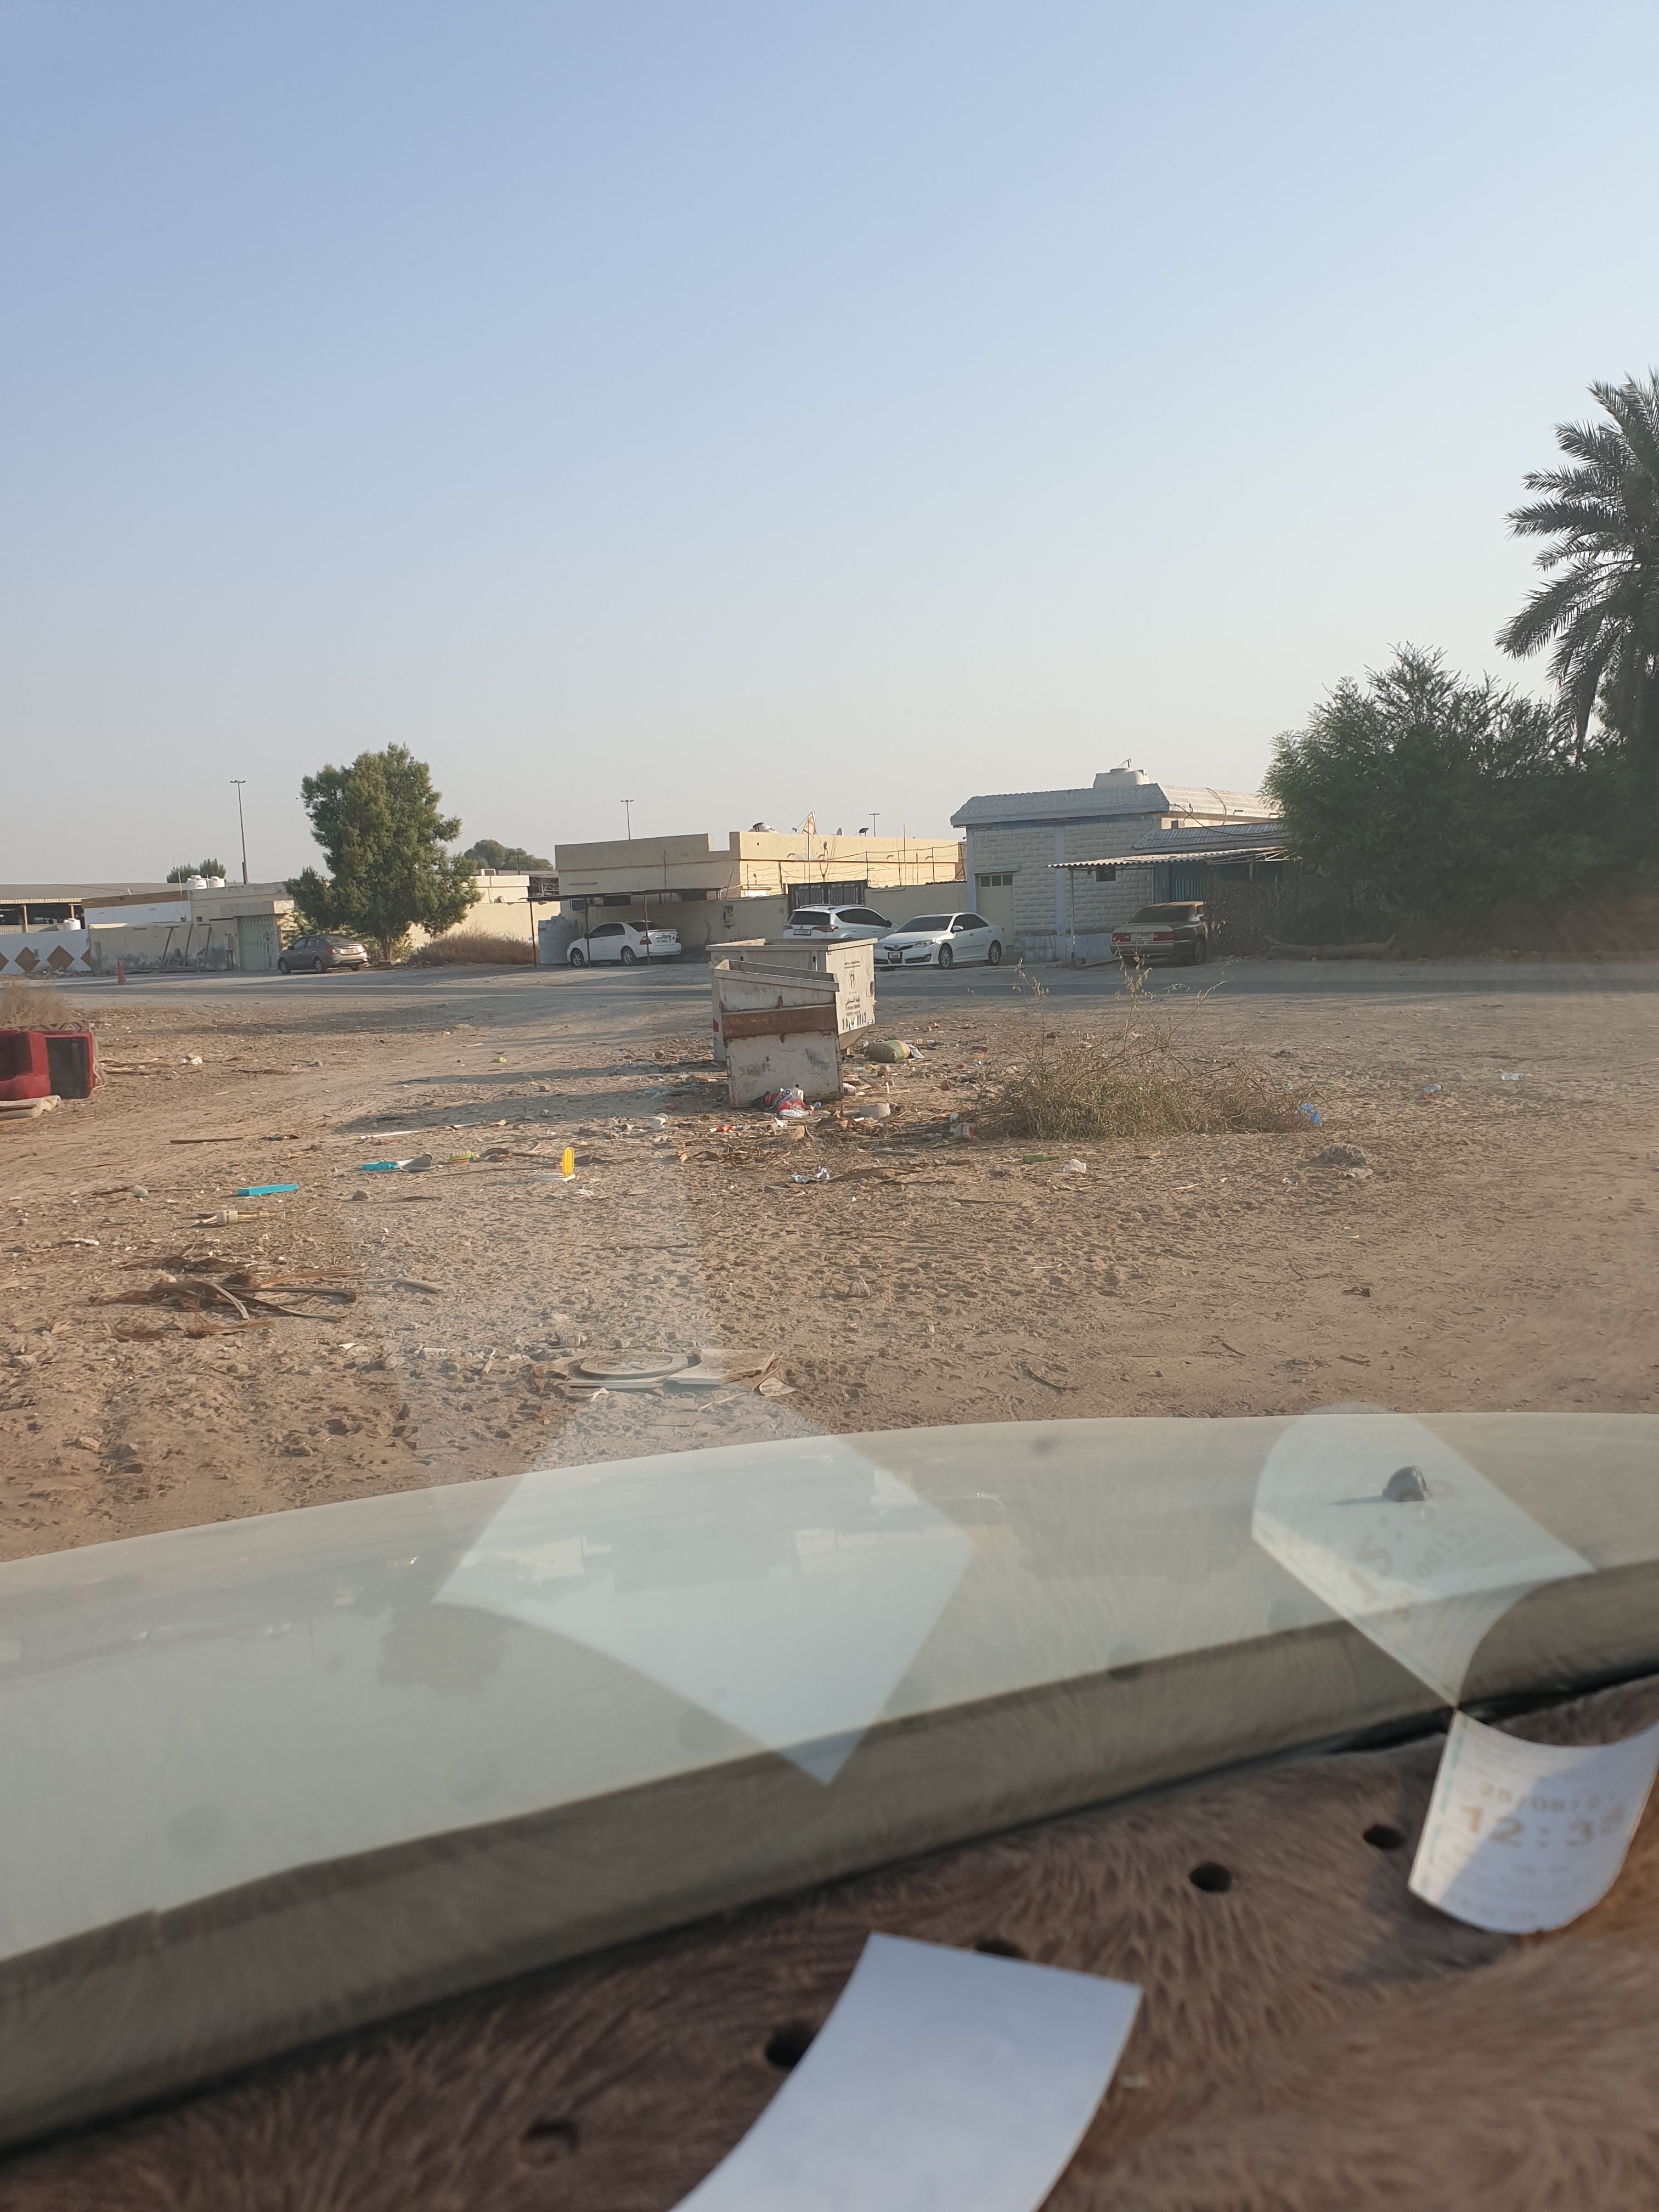fallen_trees: (945, 1012, 1405, 1191), (1044, 960, 1488, 1141), (1023, 1042, 1399, 1163)
